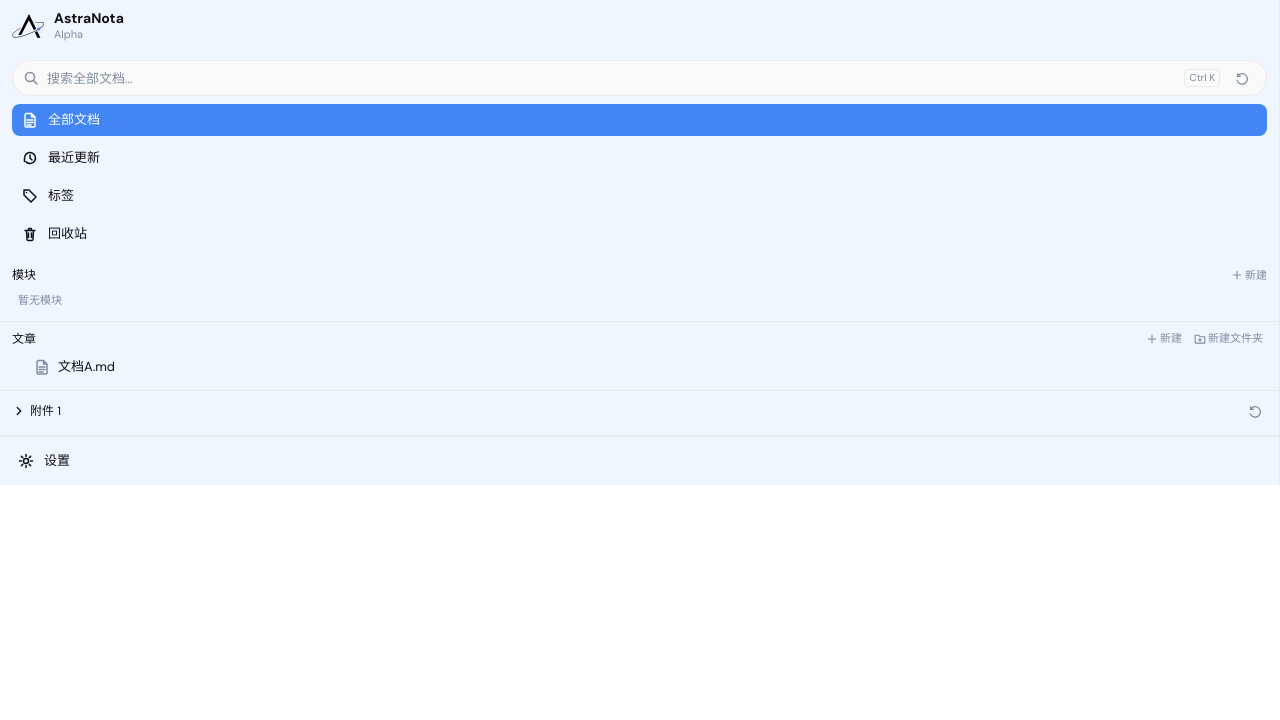
L-3 详情：全部引用 / 信息量 / 跳转 › 迁移信息量不缩水：名称 / 大小 / 已引用徽章 / 全路径 / 修改时间 逐项可见
Click the button "附件 1": (36, 410) left=12, top=402, right=61, bottom=420
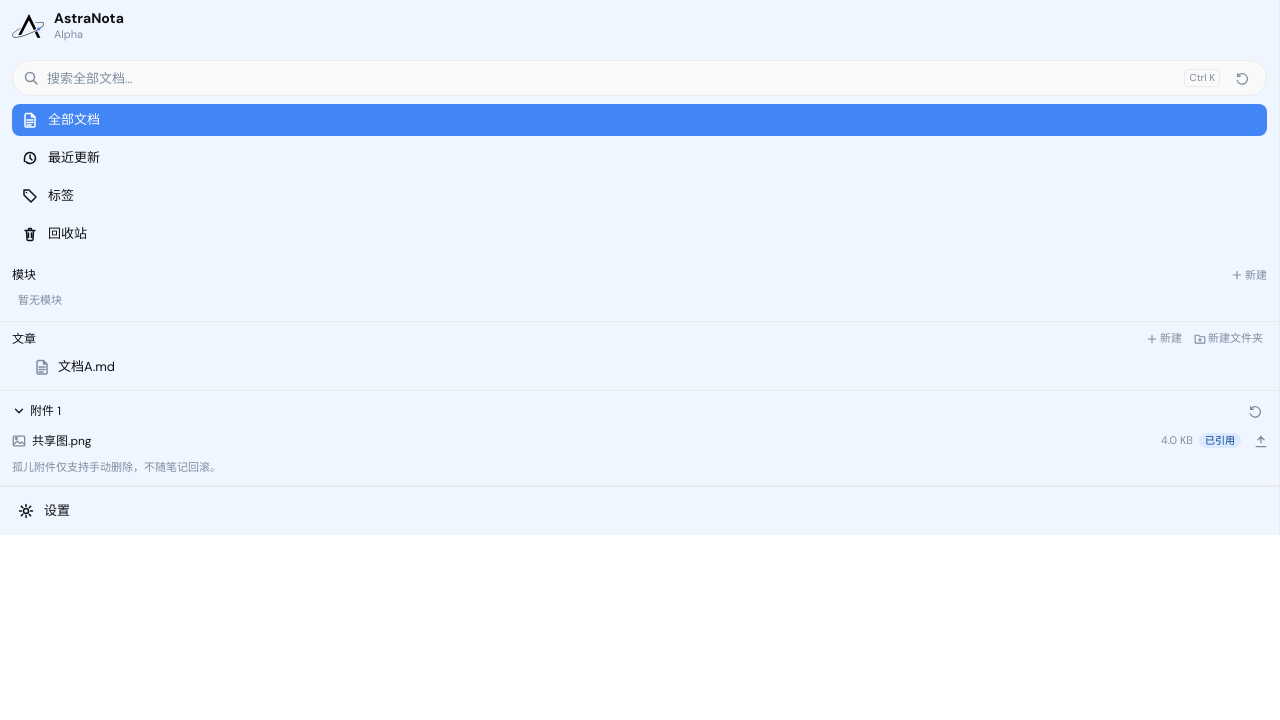
Check: the text "共享图.png" is shown, box left=32, top=432, right=92, bottom=448
Check: the text "4.0 KB" is shown, box left=1161, top=432, right=1193, bottom=449
Check: the text "已引用" is shown, box left=1199, top=433, right=1241, bottom=448
Click the button "共享图.png 4.0 KB 已引用": (62, 440) left=6, top=426, right=1247, bottom=454
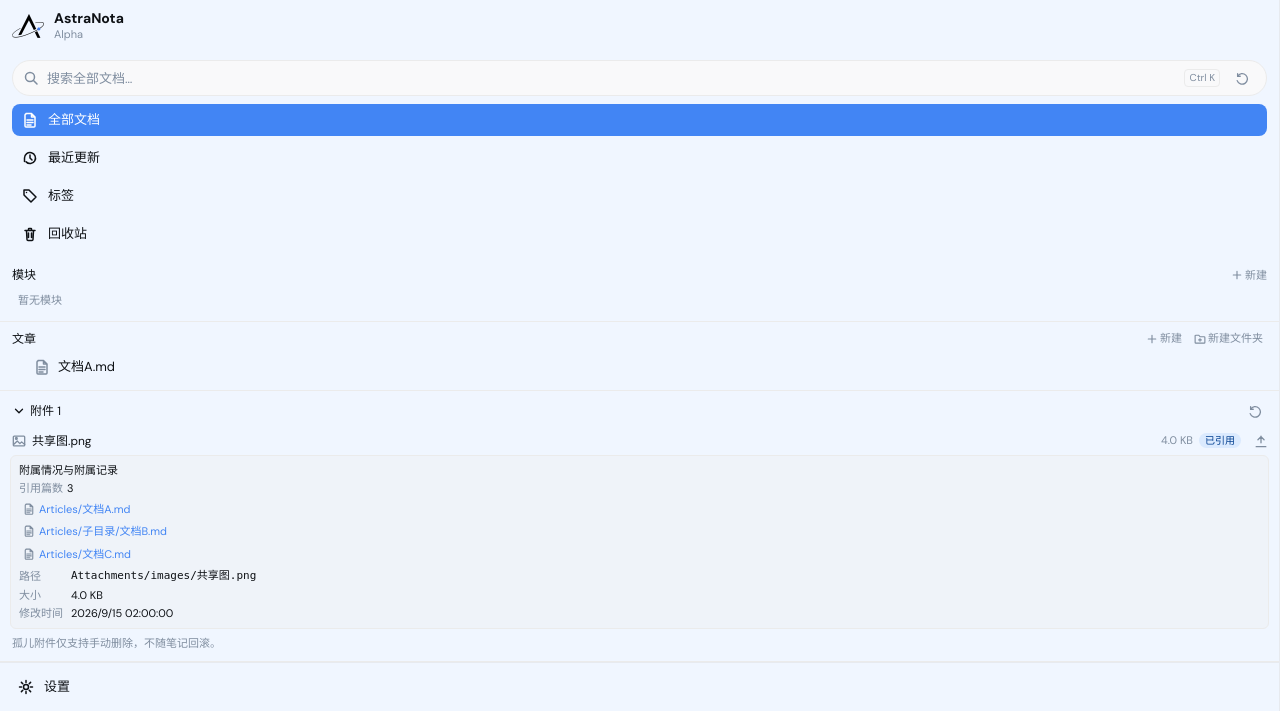
Check: the text "Attachments/images/共享图.png" is shown, box left=71, top=569, right=256, bottom=582
Check: the text "2026" is shown, box left=71, top=606, right=173, bottom=620
